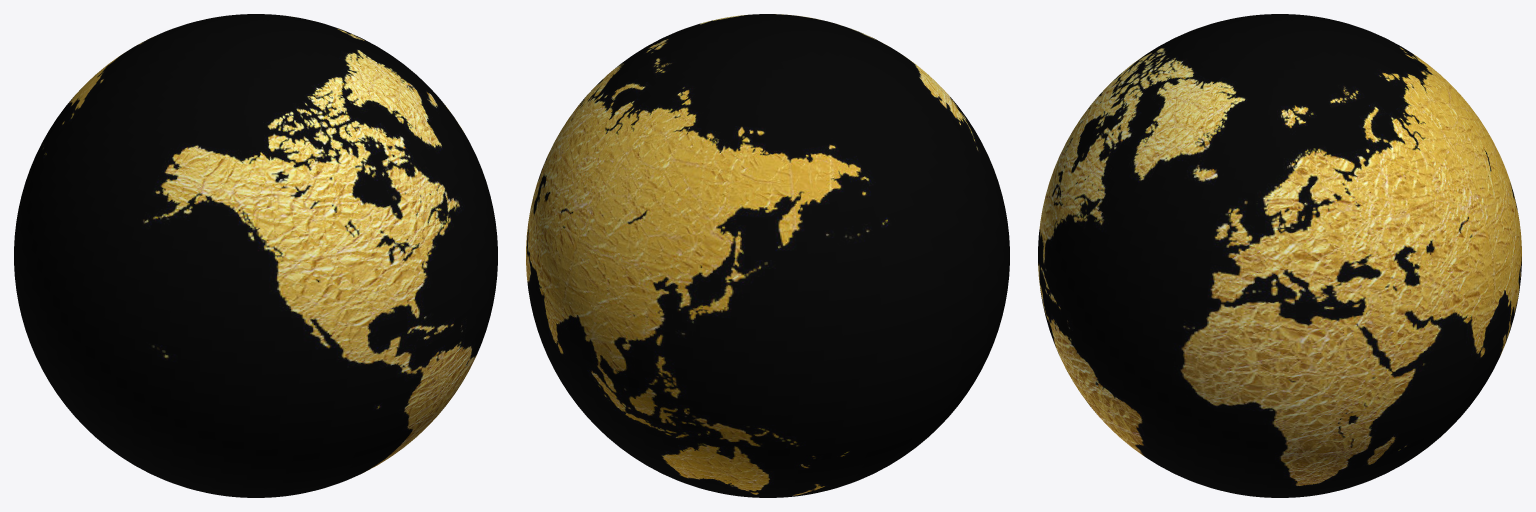
Rendered from 3D_Map.glb.
The picture shows the model from 3 angles, left to right: view 1: azimuth 30°, elevation 25°; view 2: azimuth 150°, elevation 25°; view 3: azimuth 270°, elevation 25°; orthographic projection.
Parts seen in each view (by area): view 1: Sphere; view 2: Sphere; view 3: Sphere.
Boxes of the visible parts, box(x1,y1,x2,y2) form: Sphere: box(14, 14, 497, 497); Sphere: box(526, 14, 1009, 497); Sphere: box(1038, 14, 1521, 497).
Size of the model in its own units: 2 by 2 by 2.
1 material, 1 textured.
